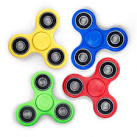fidget_spinner: (4, 1, 69, 71)
